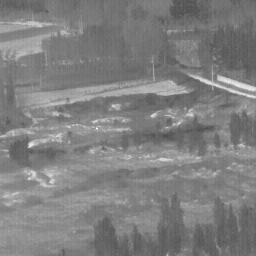aircraft: (96, 128, 98, 130)
